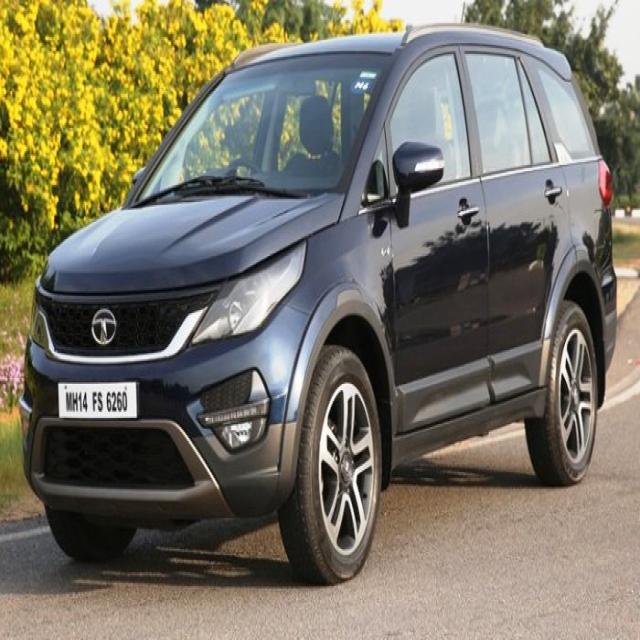Car: (12, 20, 622, 581)
